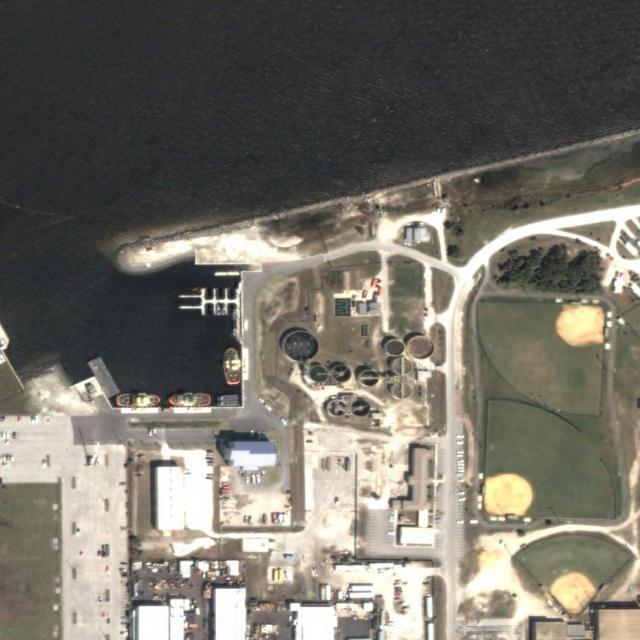Hovercraft: (221, 345, 242, 386), (116, 392, 161, 408), (167, 392, 212, 407)
